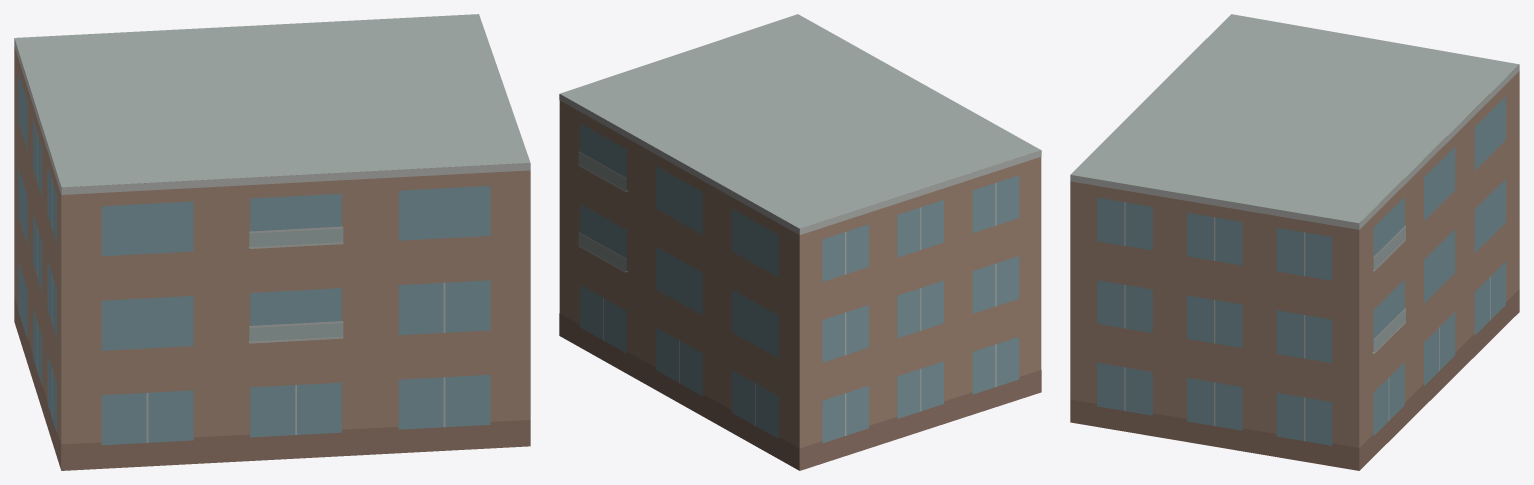
The model's file is survey-upis-32531937.glb.
The picture shows the model from 3 angles, left to right: view 1: azimuth 30°, elevation 25°; view 2: azimuth 150°, elevation 25°; view 3: azimuth 270°, elevation 25°; orthographic projection. The views are drawn at different scales.
Parts seen in each view (by area): view 1: survey-upis-32531937.tmp; view 2: survey-upis-32531937.tmp; view 3: survey-upis-32531937.tmp.
Part boxes in pixels (x1,y1,x2,y2): survey-upis-32531937.tmp: (14, 14, 530, 470); survey-upis-32531937.tmp: (559, 14, 1041, 470); survey-upis-32531937.tmp: (1070, 14, 1519, 470).
Size of the model in its own units: 16.59 by 9.15 by 15.05.
